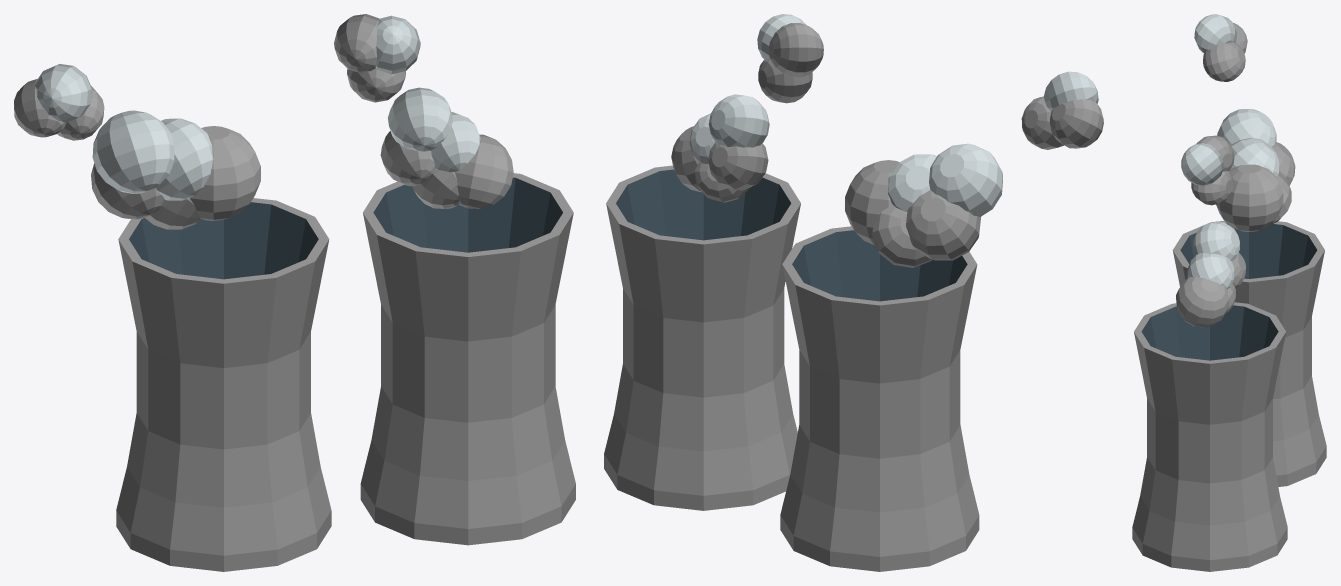
Rendered from smokestacks.glb.
3 renders of one model, left to right at view 1: azimuth 30°, elevation 25°; view 2: azimuth 150°, elevation 25°; view 3: azimuth 270°, elevation 25°, orthographic. The views are drawn at different scales.
Visible parts, largest first — view 1: Node; view 2: Node; view 3: Node.
Part boxes in pixels (left/top/right/bottom): Node: left=14, top=14, right=575, bottom=571; Node: left=604, top=14, right=1103, bottom=571; Node: left=1132, top=14, right=1326, bottom=571.
Size of the model in its own units: 1.03 by 0.9735 by 0.45.
